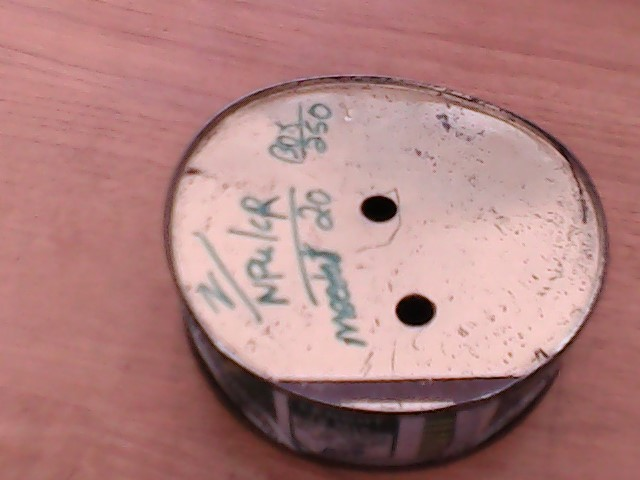Metal: (149, 63, 640, 480)
